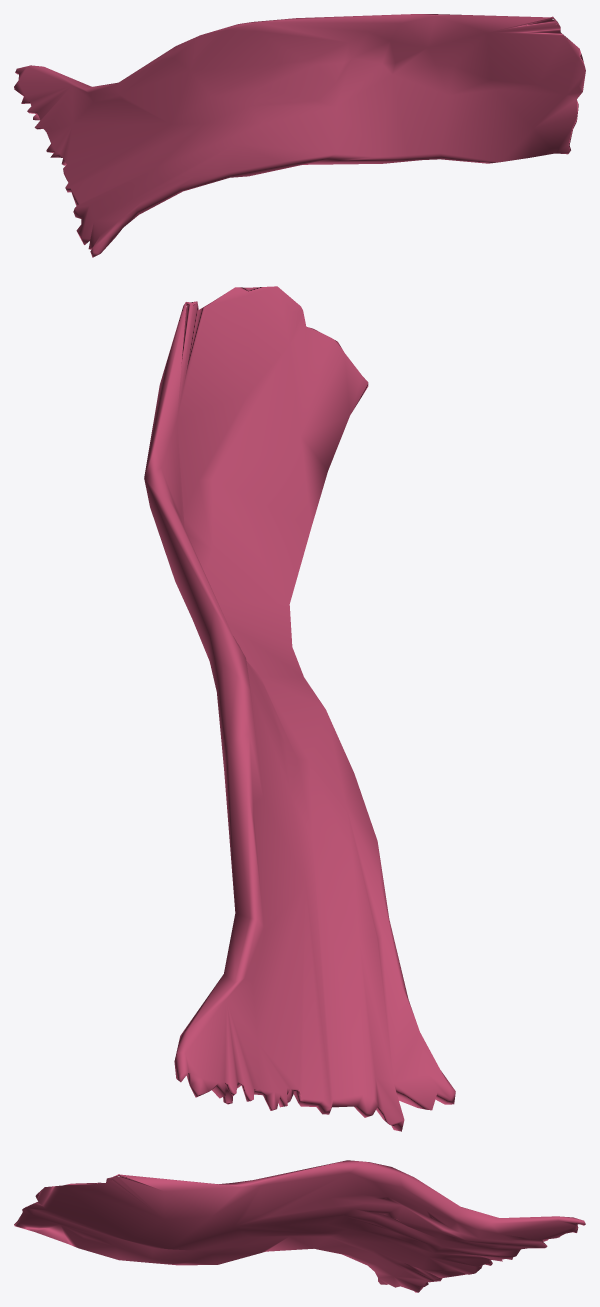
3 views of the same model, one above another, from view 1: azimuth 30°, elevation 25°; view 2: azimuth 150°, elevation 25°; view 3: azimuth 270°, elevation 25° (orthographic). The views are drawn at different scales.
Visible parts, largest first — view 1: 左侧颧大肌; view 2: 左侧颧大肌; view 3: 左侧颧大肌.
Boxes of the visible parts, <box> form: 左侧颧大肌: <box>14,14,585,257</box>; 左侧颧大肌: <box>144,286,455,1131</box>; 左侧颧大肌: <box>14,1160,585,1292</box>.
Size of the model in its own units: 0.0433 by 0.0378 by 0.0803.
